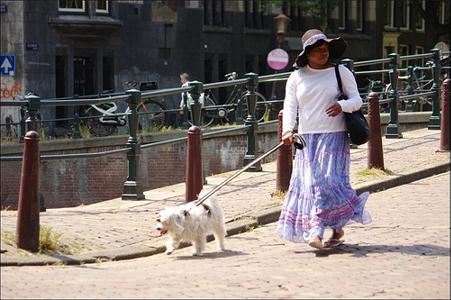person: (283, 31, 362, 249)
